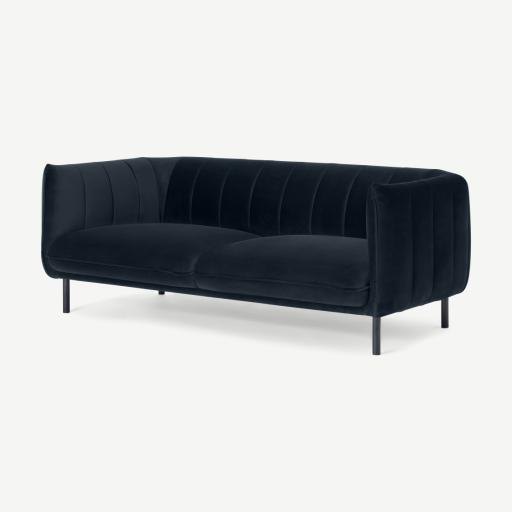back_cushion: (163, 157, 440, 238)
left_arm: (366, 174, 470, 317)
legs: (372, 317, 381, 355), (63, 279, 69, 313), (442, 301, 447, 315), (443, 316, 447, 327)
right_arm: (42, 159, 160, 254)
seat_cushion: (43, 223, 368, 305)
two-seater: (0, 0, 511, 512)
